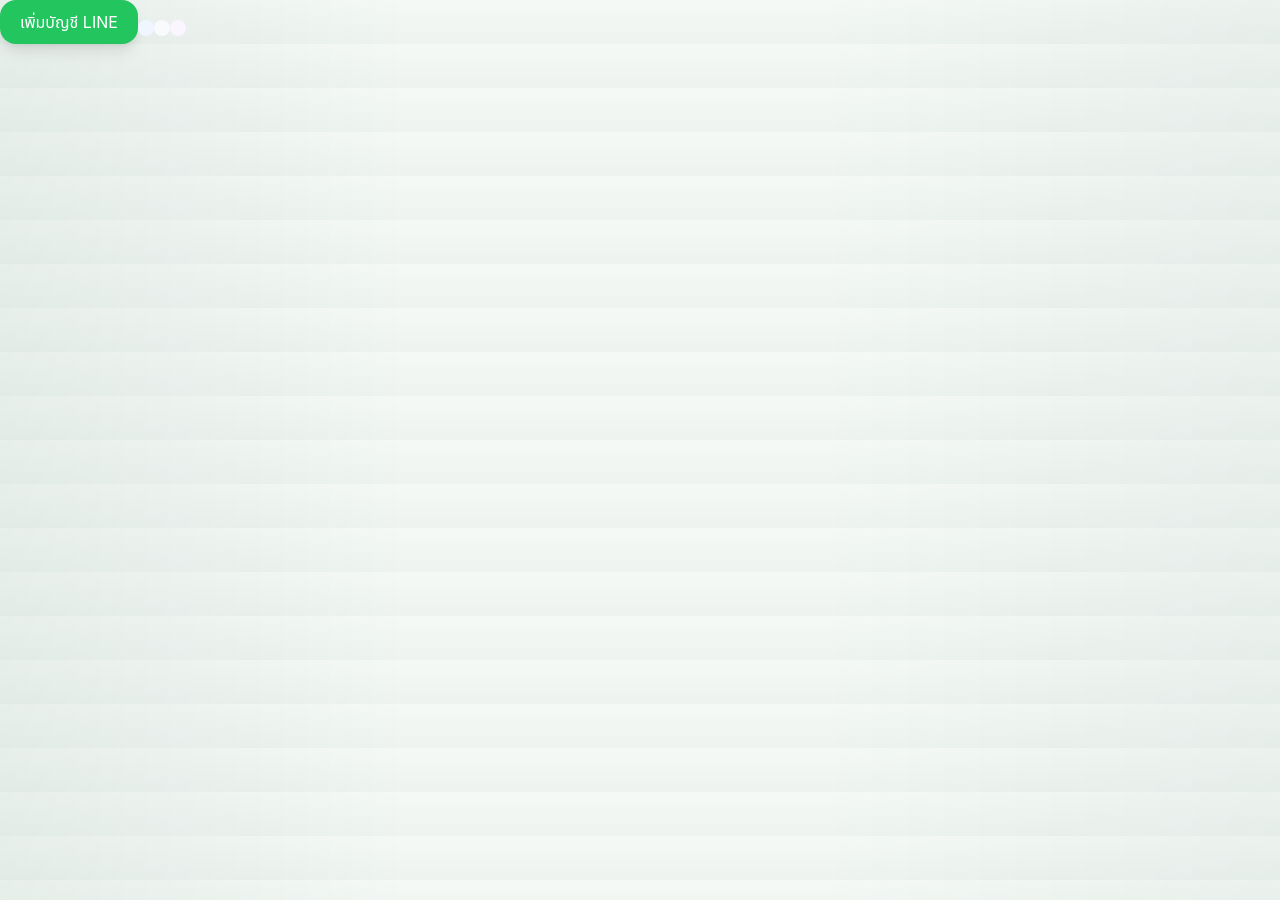
Test case: LineAccountsPanel — test connection › shows the failure panel with result.message when success:false
Click the button titled "ทดสอบ": (146, 28) [138,20,154,36]
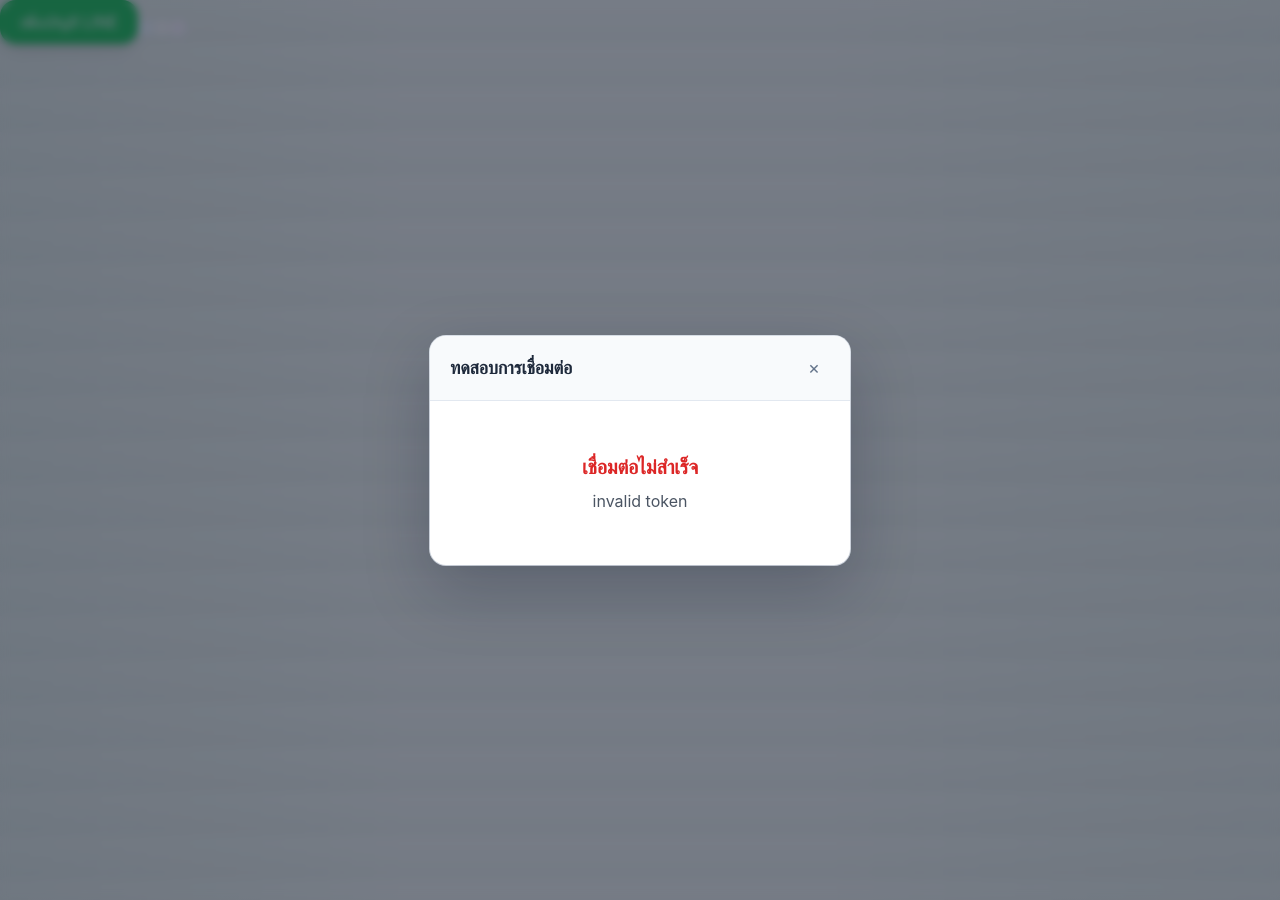
Check: the heading "เชื่อมต่อไม่สำเร็จ" is shown, box [582,454,698,478]
Check: the text "invalid token" is shown, box [592,490,687,510]
